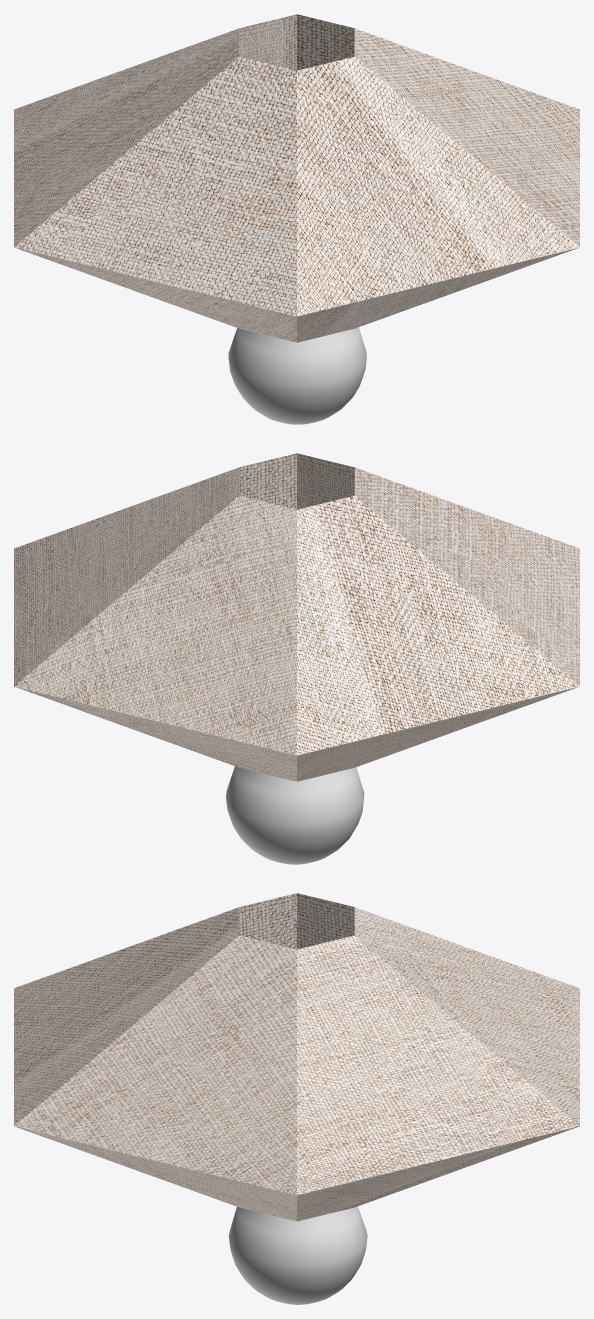
File: Lamp.fbx
3 views of the same model, one above another, from view 1: azimuth 30°, elevation 25°; view 2: azimuth 150°, elevation 25°; view 3: azimuth 270°, elevation 25° (orthographic).
Visible parts, largest first — view 1: Torus, Sphere; view 2: Torus, Sphere; view 3: Torus, Sphere.
Part boxes in pixels (left/top/right/bottom): Torus: left=14, top=14, right=579, bottom=342; Sphere: left=228, top=327, right=366, bottom=424; Torus: left=14, top=453, right=579, bottom=781; Sphere: left=226, top=766, right=364, bottom=864; Torus: left=14, top=893, right=579, bottom=1221; Sphere: left=228, top=1206, right=367, bottom=1304.
Bounding box in the file's own units: 426 × 271 × 369.
2 materials, 1 textured.
